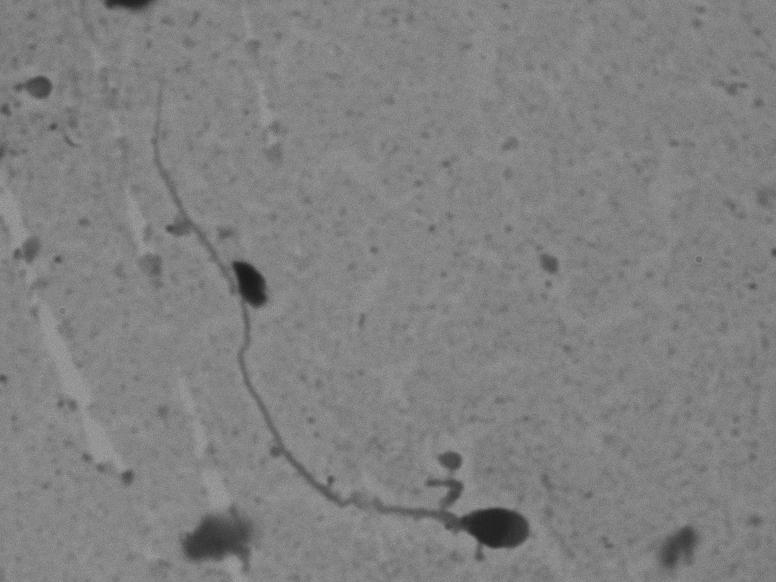Abnormal: (143, 55, 550, 564)
